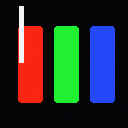4 line_v: (19, 6, 23, 62)
